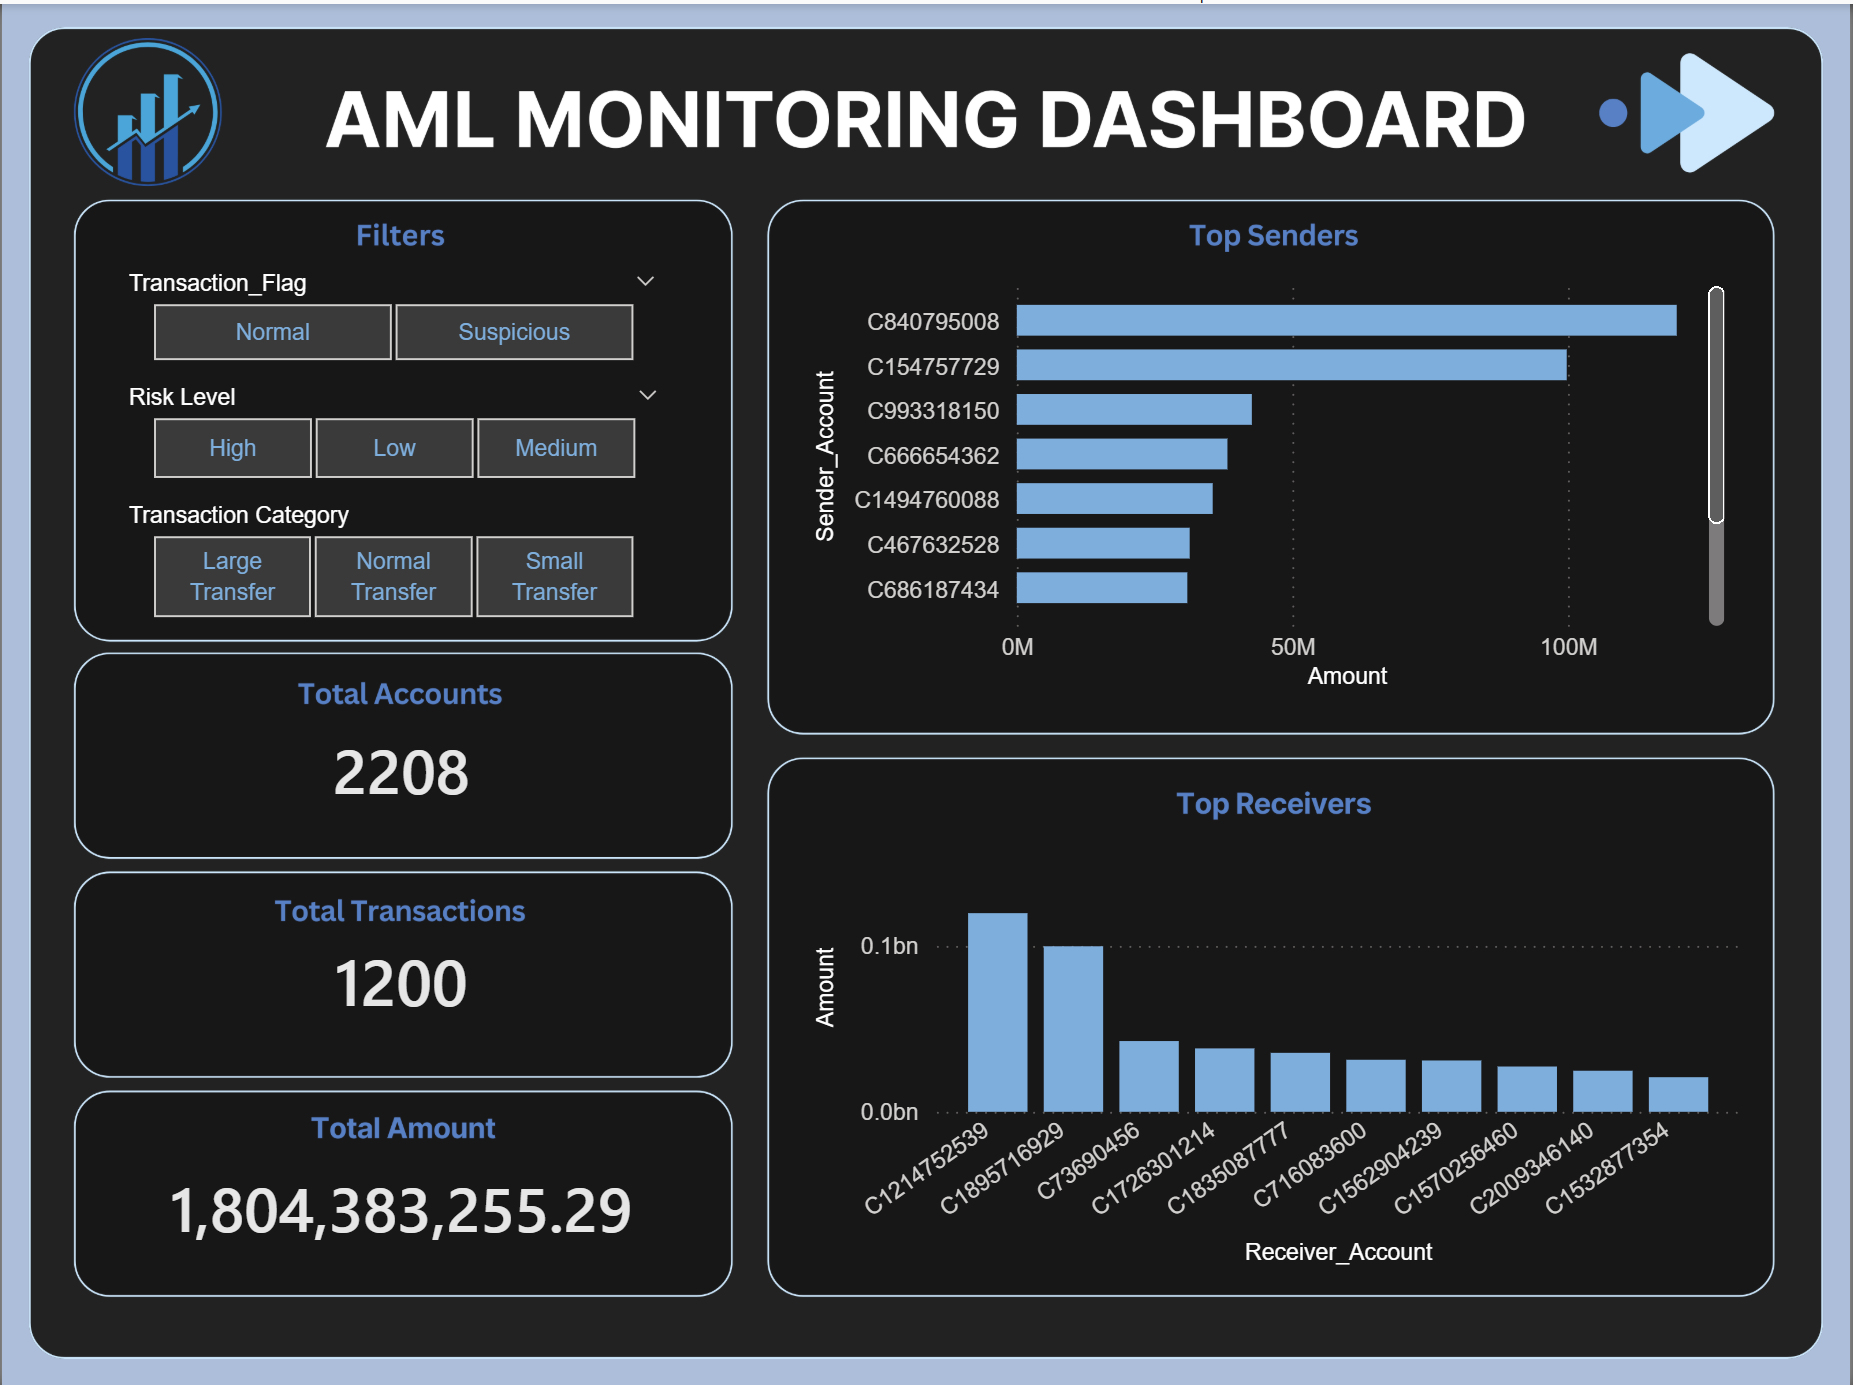

The dashboard page shown, as its layout file describes it:
{"tool":"powerbi","page":{"name":"Overview","canvas":[960,720],"ordinal":1},"visuals":[{"type":"cardVisual","fields":{"Data":["Overview.Total Accounts"]},"box":[37.4,360.5,340.8,71.7],"z":0},{"type":"cardVisual","fields":{"Data":["Overview.Total Transactions"]},"box":[37.4,468.6,340.8,74.8],"z":1000},{"type":"cardVisual","fields":{"Data":["Overview.Total Amount"]},"box":[37.4,587,340.8,73.8],"z":2000},{"type":"clusteredBarChart","title":"Top Senders","fields":{"Category":["Synthetic_Financial_Datasets_For_Fraud_Detection.Sender_Account"],"Y":["Sum(Synthetic_Financial_Datasets_For_Fraud_Detection.Amount)"]},"box":[417.7,134,482.1,226.5],"z":3000},{"type":"clusteredColumnChart","title":"Top Receivers","fields":{"Category":["Synthetic_Financial_Datasets_For_Fraud_Detection.Receiver_Account"],"Y":["Sum(Synthetic_Financial_Datasets_For_Fraud_Detection.Amount)"]},"box":[417.8,432.2,490,227.8],"z":4000},{"type":"slicer","fields":{"Values":["Synthetic_Financial_Datasets_For_Fraud_Detection.Transaction_Flag"]},"box":[53.3,133.3,298.9,58.9],"z":5000},{"type":"slicer","fields":{"Values":["Synthetic_Financial_Datasets_For_Fraud_Detection.Transaction Category"]},"box":[53.3,253.3,298.9,72.2],"z":6000},{"type":"slicer","fields":{"Values":["Synthetic_Financial_Datasets_For_Fraud_Detection.Risk Level"]},"box":[53.3,192.2,300,61.1],"z":7000}]}

Visuals, with their boxes in screenshot pixels (x1, y1, x2, y2), scaled from the page's 960x720 canvas onto the 1853x1385 screenshot:
cardVisual - Overview.Total Accounts: 72,693,730,831
cardVisual - Overview.Total Transactions: 72,901,730,1045
cardVisual - Overview.Total Amount: 72,1129,730,1271
"Top Senders" clusteredBarChart: 806,258,1737,693
"Top Receivers" clusteredColumnChart: 806,831,1752,1270
slicer - Synthetic_Financial_Datasets_For_Fraud_Detection.Transaction_Flag: 103,256,680,370
slicer - Synthetic_Financial_Datasets_For_Fraud_Detection.Transaction Category: 103,487,680,626
slicer - Synthetic_Financial_Datasets_For_Fraud_Detection.Risk Level: 103,370,682,487
